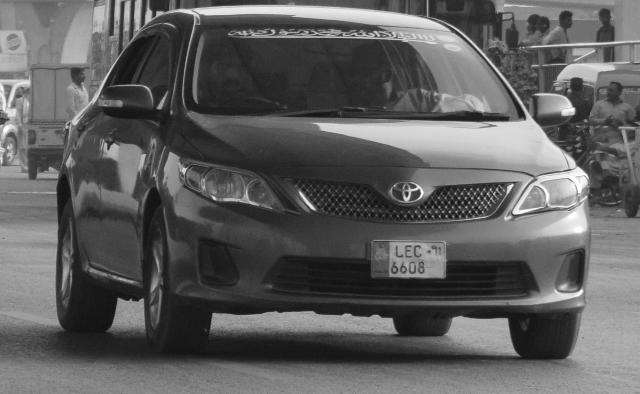Number: (391, 246, 429, 276)
